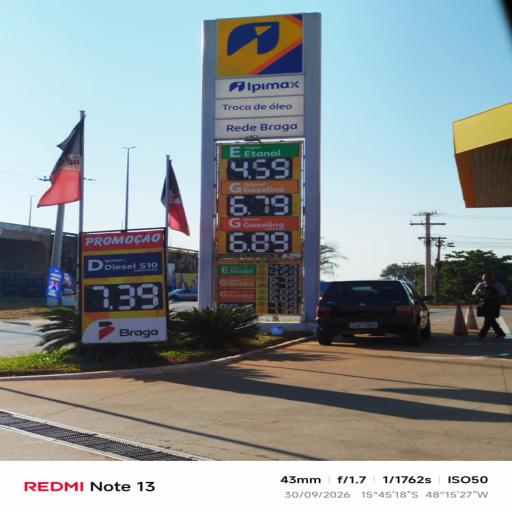ETANOL: (221, 145, 290, 157), (219, 265, 257, 276)
GASOLINA AD: (222, 217, 298, 230), (218, 289, 256, 301)
GASOLINA C: (226, 182, 294, 193), (218, 278, 256, 288)
S10: (82, 255, 160, 278)
placa: (217, 142, 303, 319), (79, 250, 166, 340)
preco: (85, 283, 164, 311), (226, 232, 294, 254), (227, 158, 293, 180), (228, 194, 291, 216), (266, 302, 298, 308), (268, 289, 299, 295), (269, 276, 298, 282), (268, 264, 299, 269)
